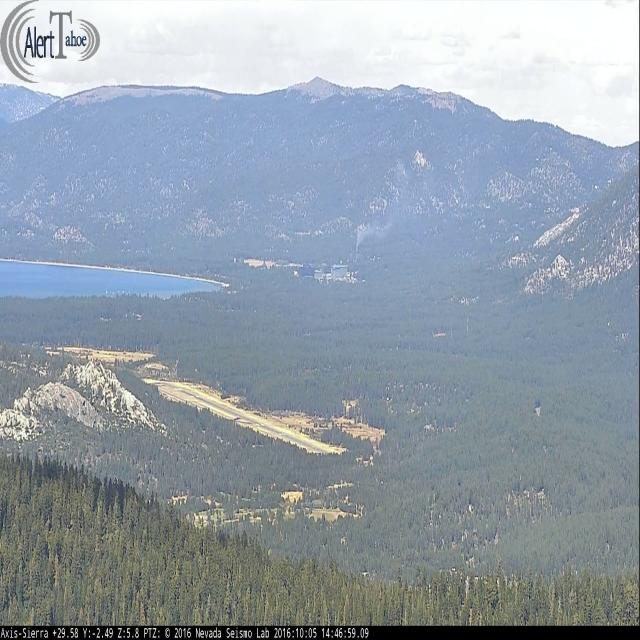smoke: (354, 224, 387, 252)
